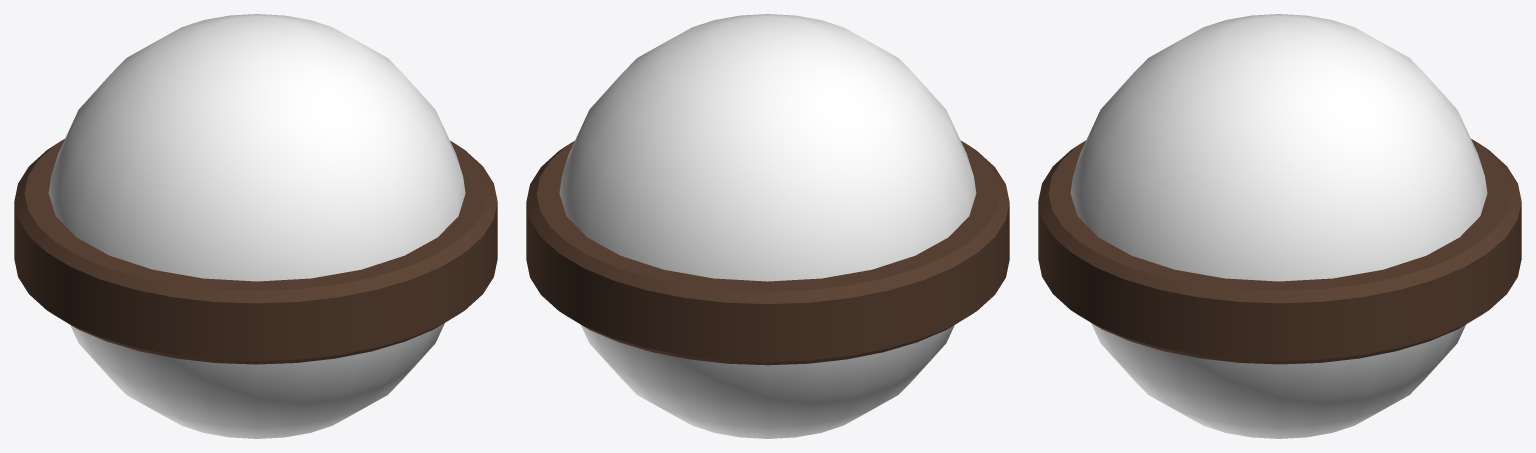
File: quindim.fbx
3 renders of one model, left to right at view 1: azimuth 30°, elevation 25°; view 2: azimuth 150°, elevation 25°; view 3: azimuth 270°, elevation 25°, orthographic.
Visible parts, largest first — view 1: Sphere, Cylinder; view 2: Sphere, Cylinder; view 3: Sphere, Cylinder.
Part boxes in pixels (x1,y1,x2,y2): Sphere: [48, 14, 465, 438]; Cylinder: [14, 139, 497, 364]; Sphere: [559, 14, 976, 438]; Cylinder: [526, 140, 1009, 365]; Sphere: [1070, 14, 1487, 438]; Cylinder: [1038, 139, 1521, 364].
Size of the model in its own units: 57.88 by 51.1 by 57.88.
